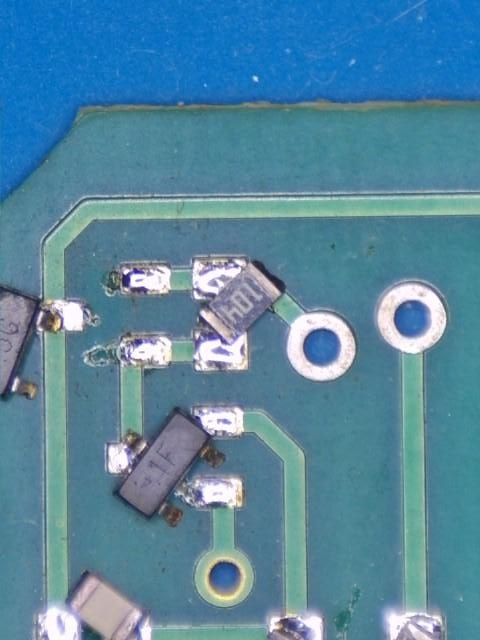pcb_defect: (106, 404, 243, 528), (192, 255, 285, 371), (0, 284, 84, 401), (36, 570, 151, 640)
